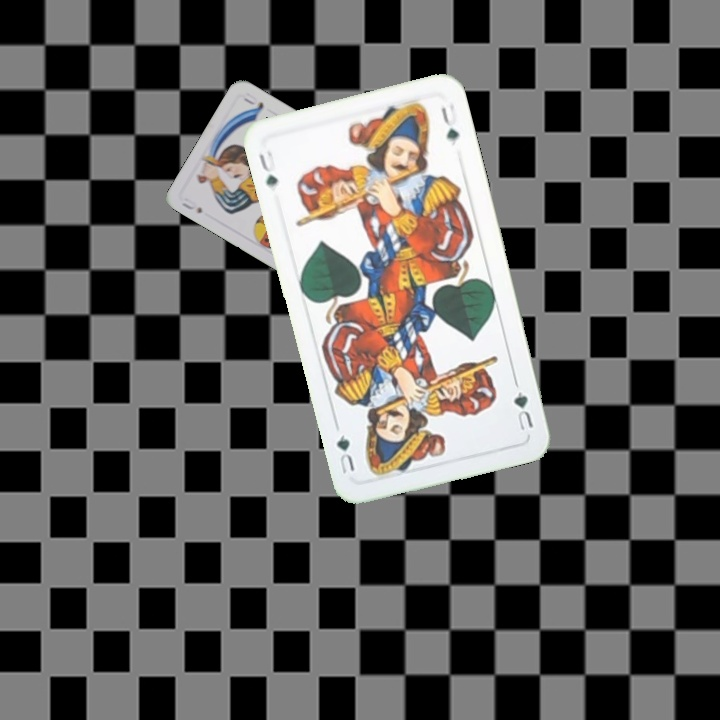GU: (509, 387, 536, 433), (254, 145, 281, 189)
SU: (177, 198, 205, 217)
